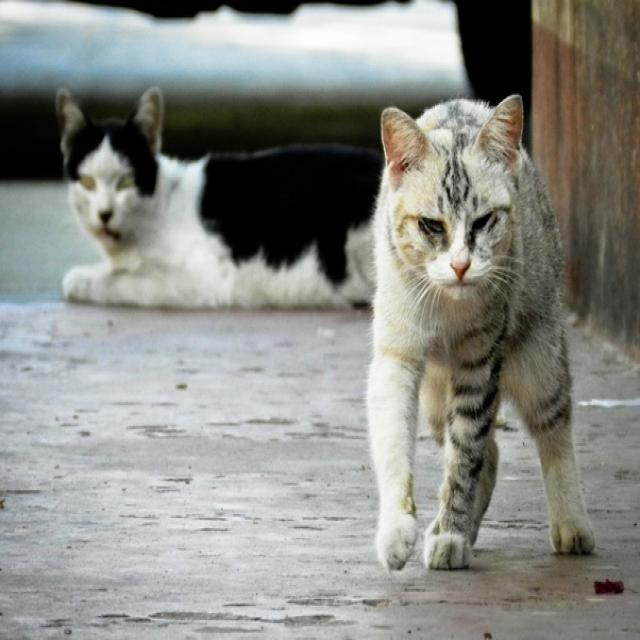cat: (368, 97, 594, 570), (58, 90, 382, 308)
